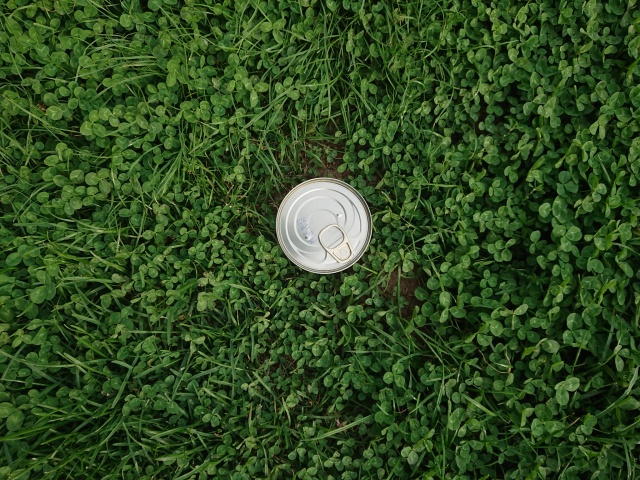Podravka Luncheon Meat 150g: (272, 175, 375, 278)
